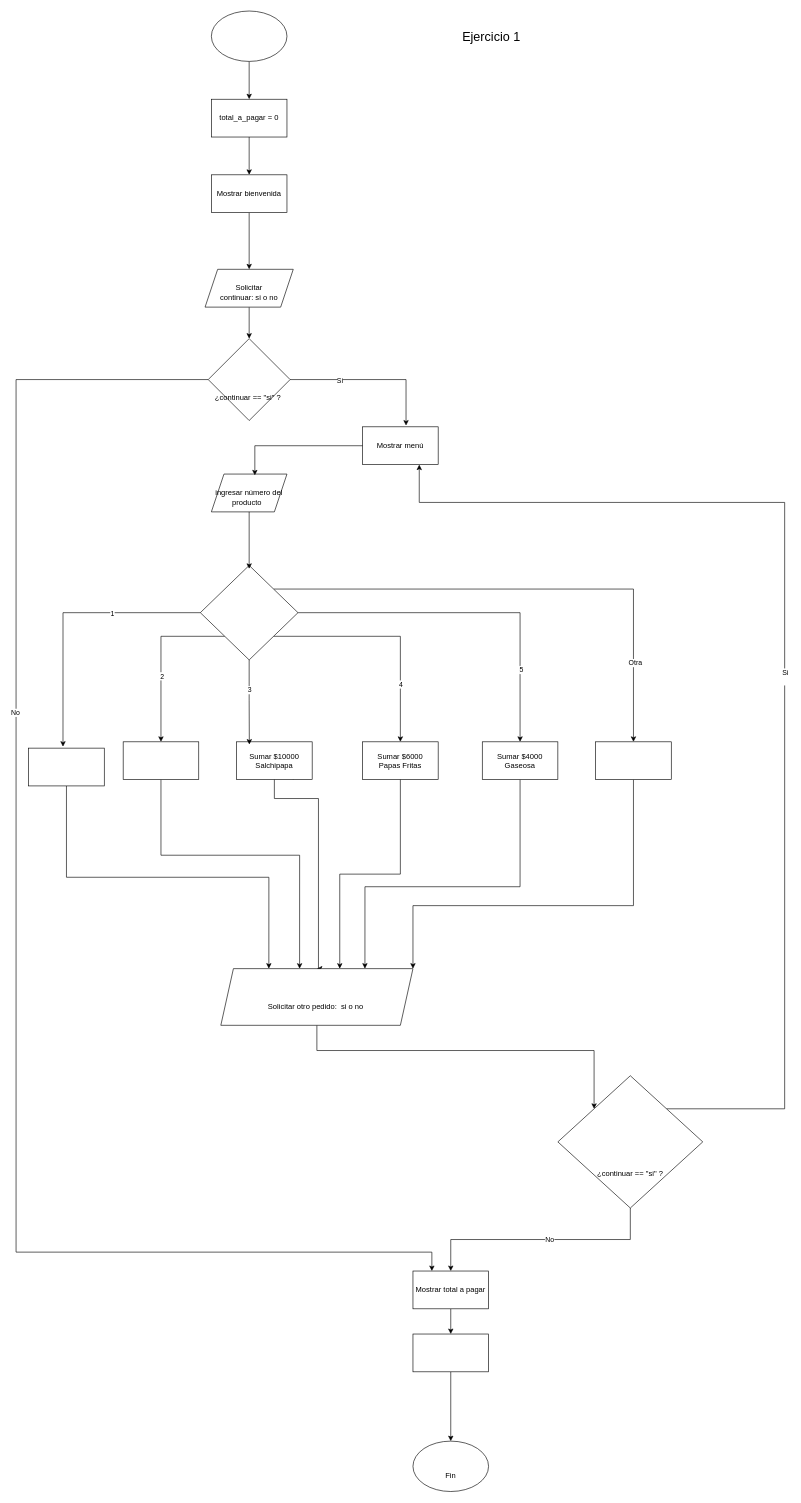
Some shapes in this 801 by 1503 pixel diagram are drawn without their labels. The shapes that lost their labels are listed below. From the top down, each one's box as (x1, y1, x2, y2) in pixels, then its label:
(211, 10, 287, 61): Inicio
(200, 565, 298, 660): ¿opción válida?
(28, 747, 104, 786): Sumar $15000 Combo Hamburguesa
(123, 741, 199, 780): Sumar $12000 Perro caliente
(595, 741, 671, 780): Mostrar mensaje: Ese plato no existe en nuestro menú
(412, 1333, 489, 1372): Mostrar mensaje de agradecimiento
